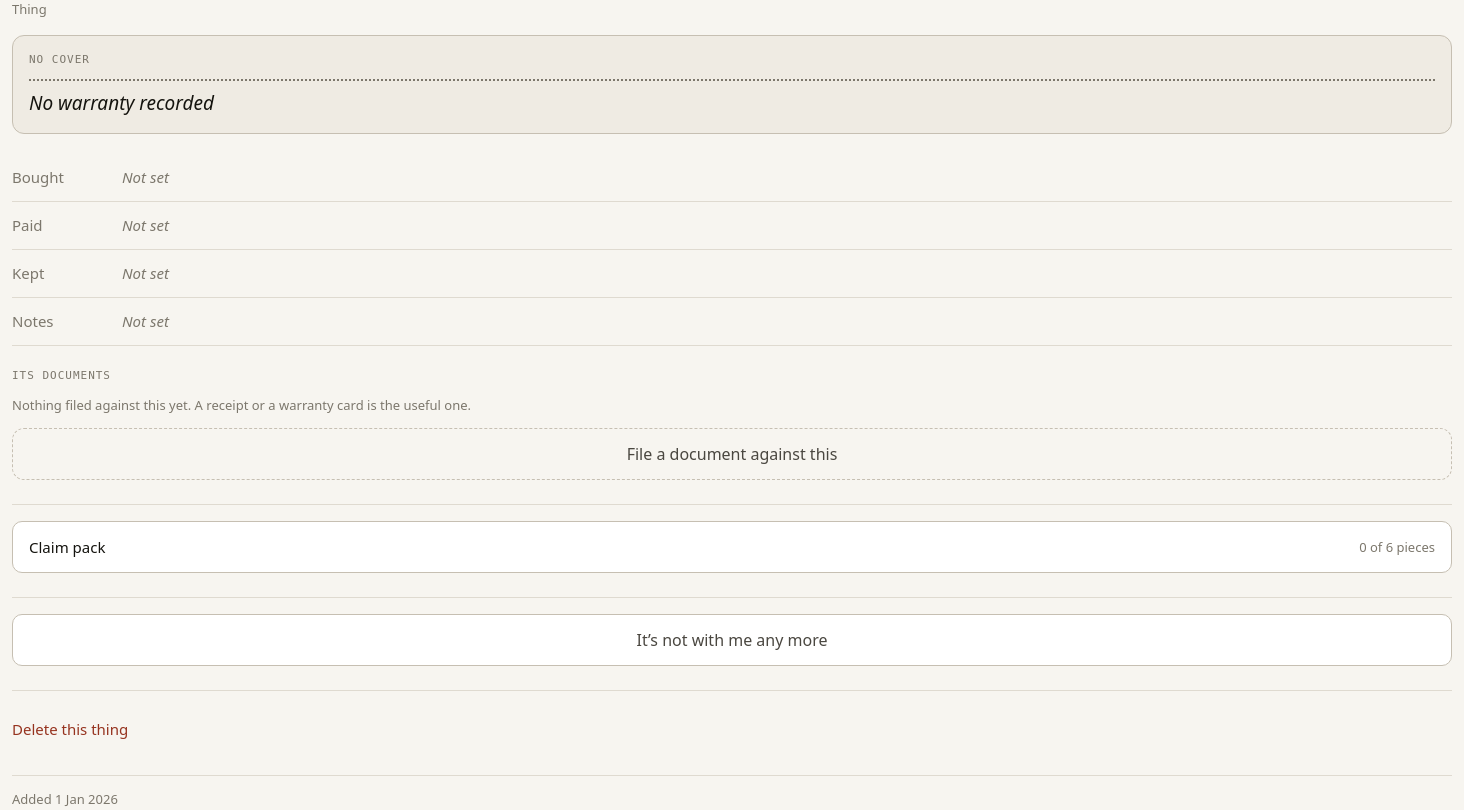
it: deleting a thing › says the documents survive, and does not promise a recovery it cannot make
The image size is (1464, 810).
(page scrolled)
Click the button "Delete this thing" at (70, 730), box [12,708,128,752]
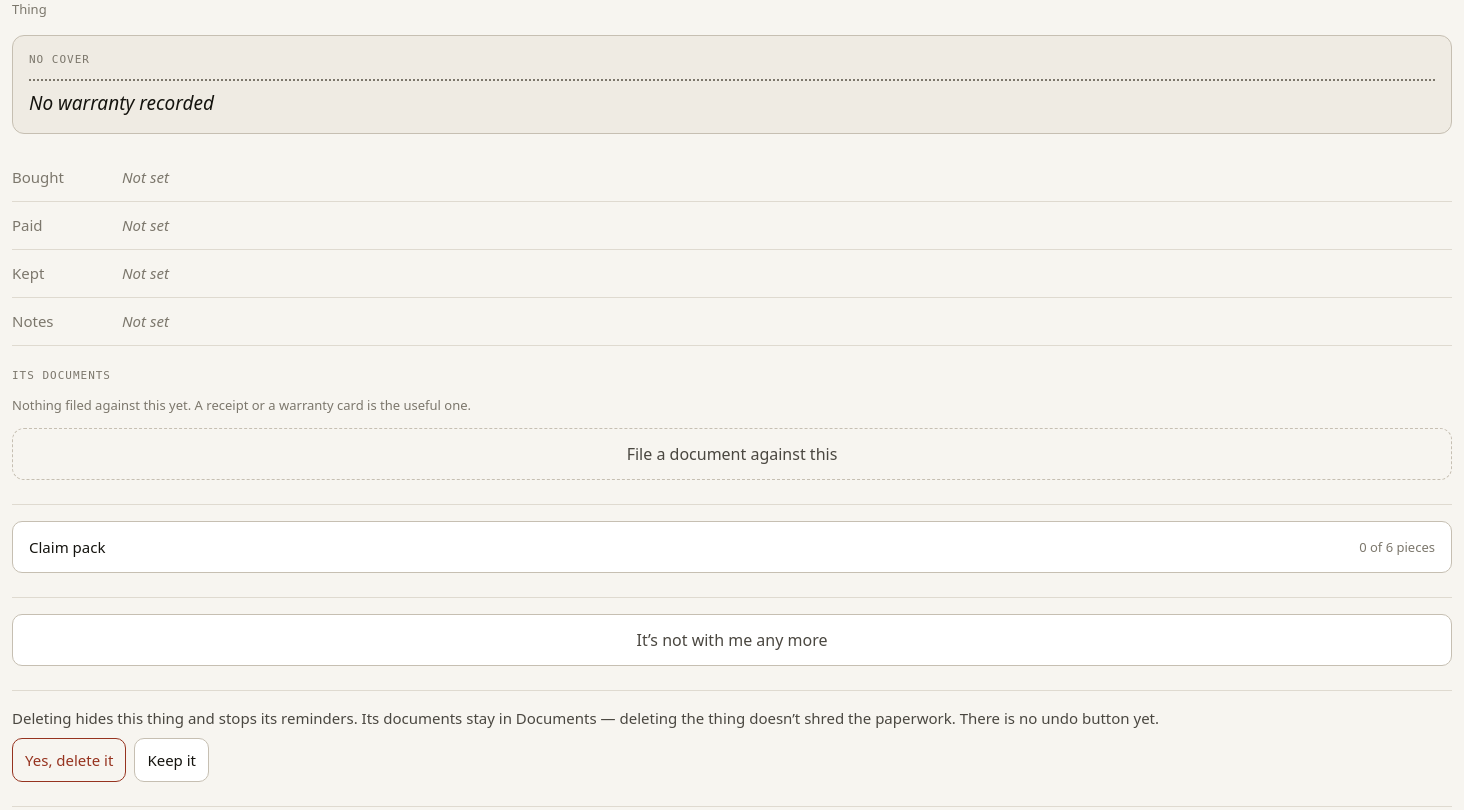
expect the text "documents stay in documents" is shown: met, box [12,708,1159,728]
